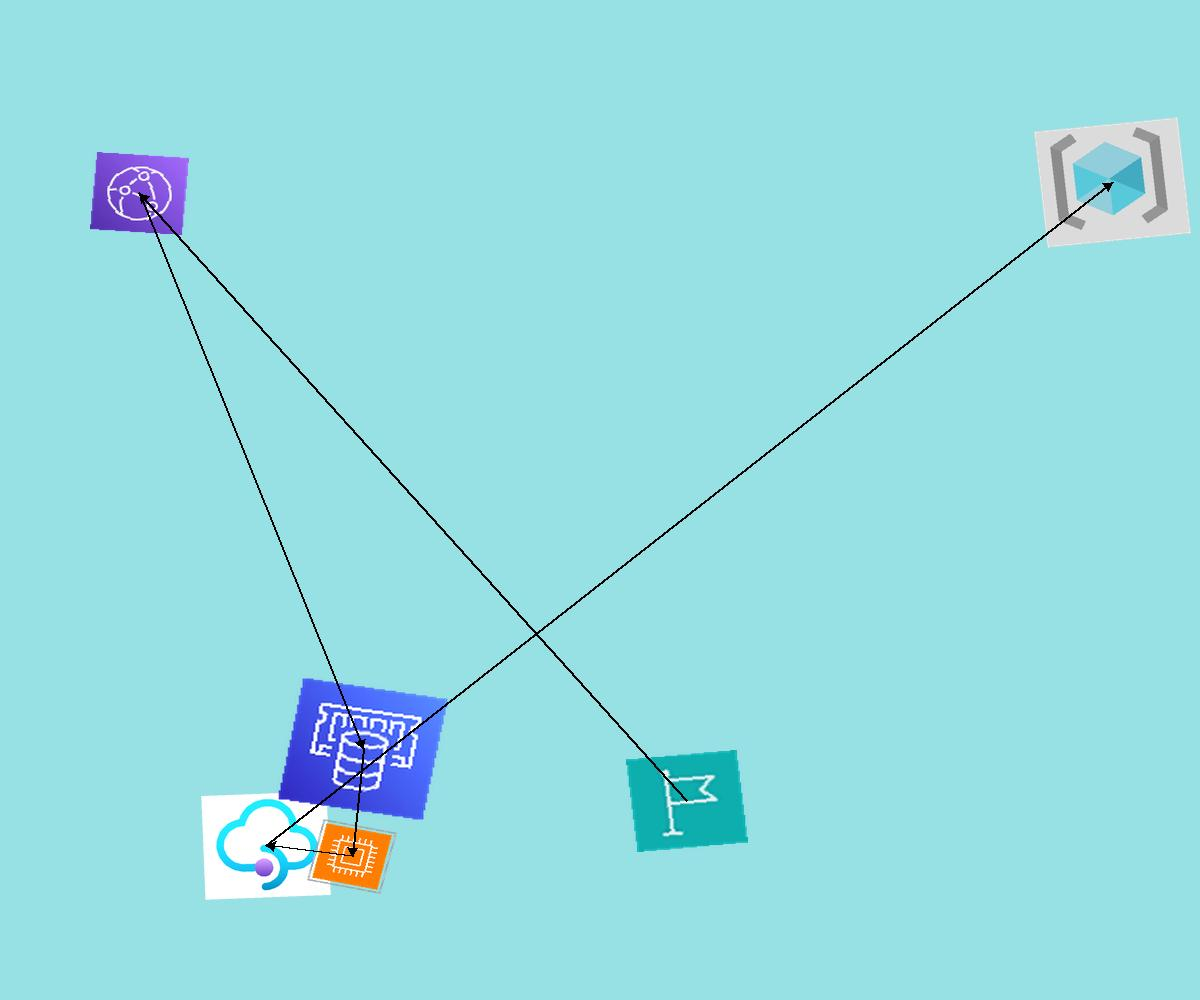AWS-Category_Compute: (307, 819, 397, 894)
AWS-CloudFront: (90, 152, 189, 235)
AWS-ElastiCache: (277, 677, 449, 821)
AWS-Region: (626, 750, 748, 852)
Azure_api_gateway: (201, 791, 331, 900)
Azure_resource_group: (1034, 117, 1191, 248)
